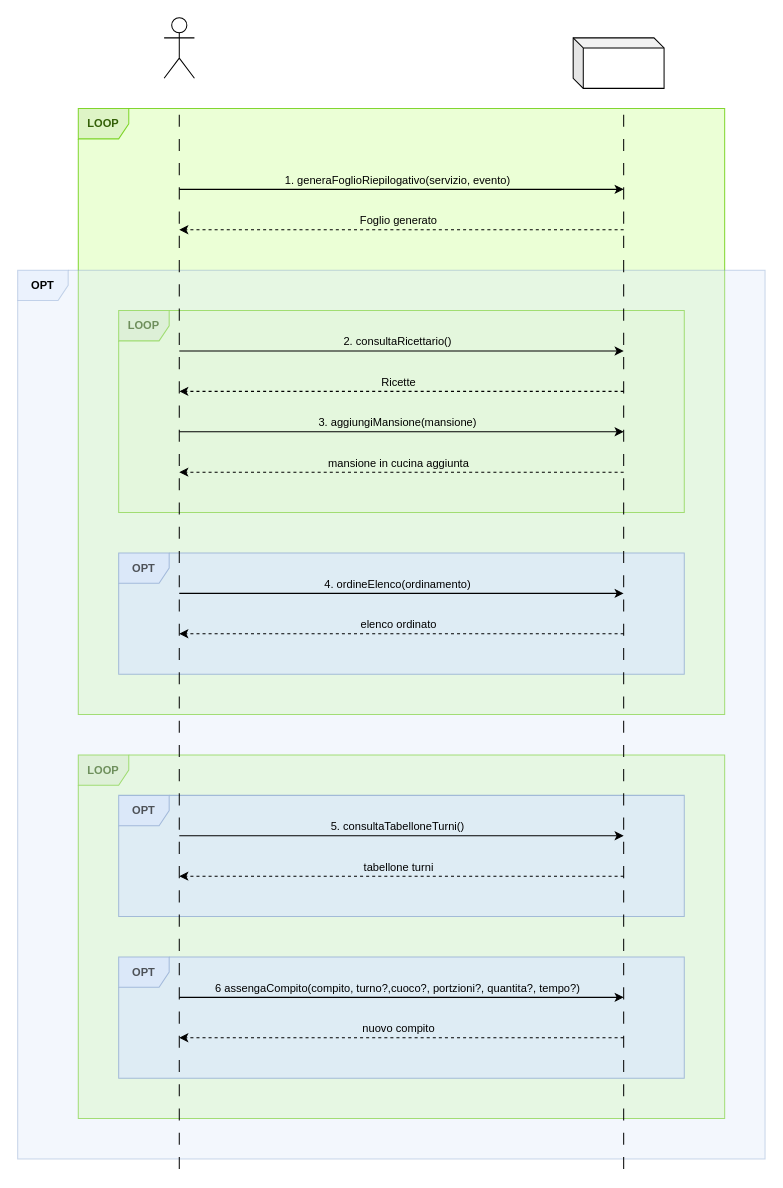
This 783x1188 diagram has some shape labels left out. The centre of each missing label's shape, as x and y in pixels:
Attore: the point at 178,47
Sistema: the point at 618,62
